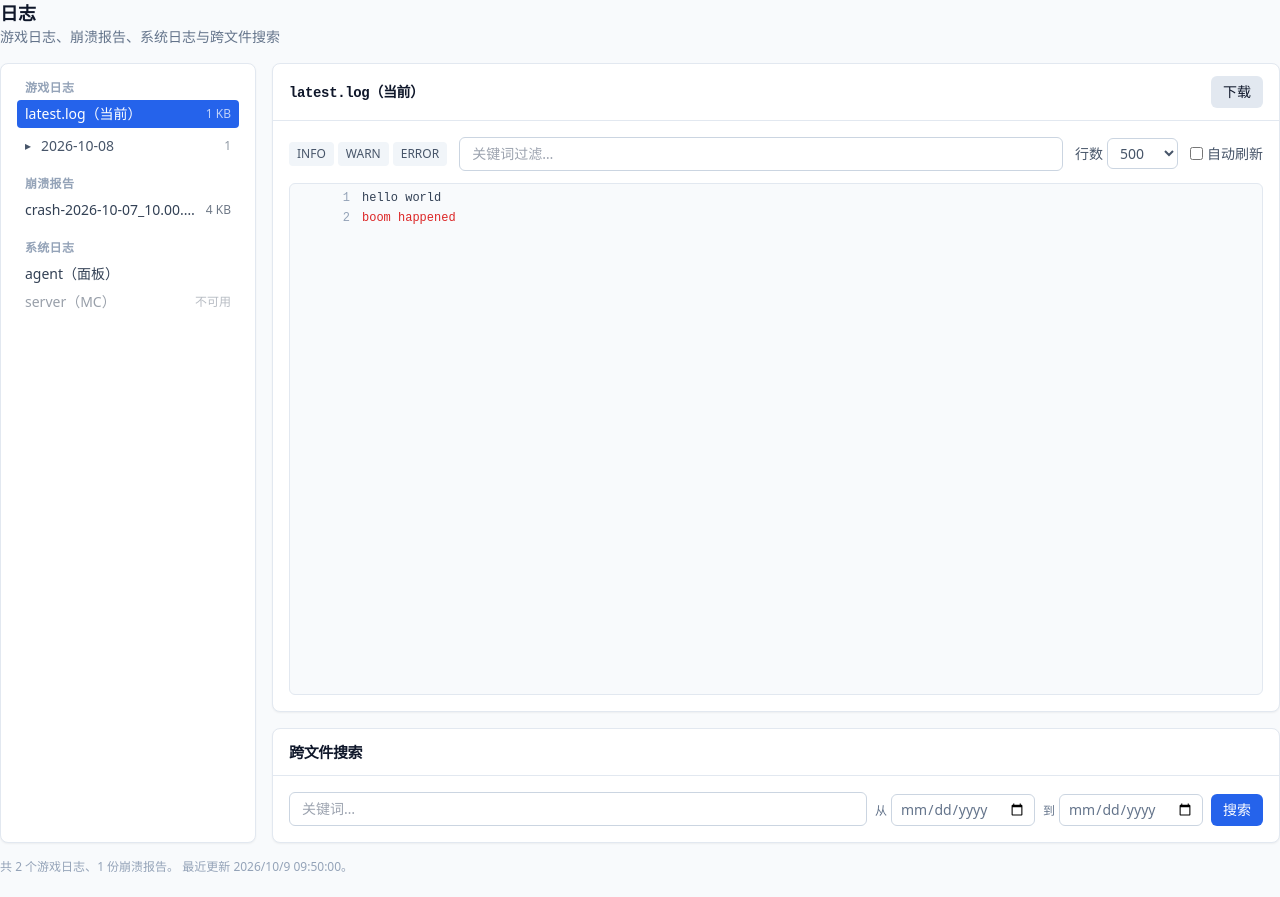
Scenario: LogsPage › cross-file search sends q and jumps to the clicked hit
The width and height of the screenshot is (1280, 897).
Expected: the text "hello world" is shown, [362,188,441,208]
Type "found" into the search field named "搜索关键词" at [578, 809], box [289,792,867,826]
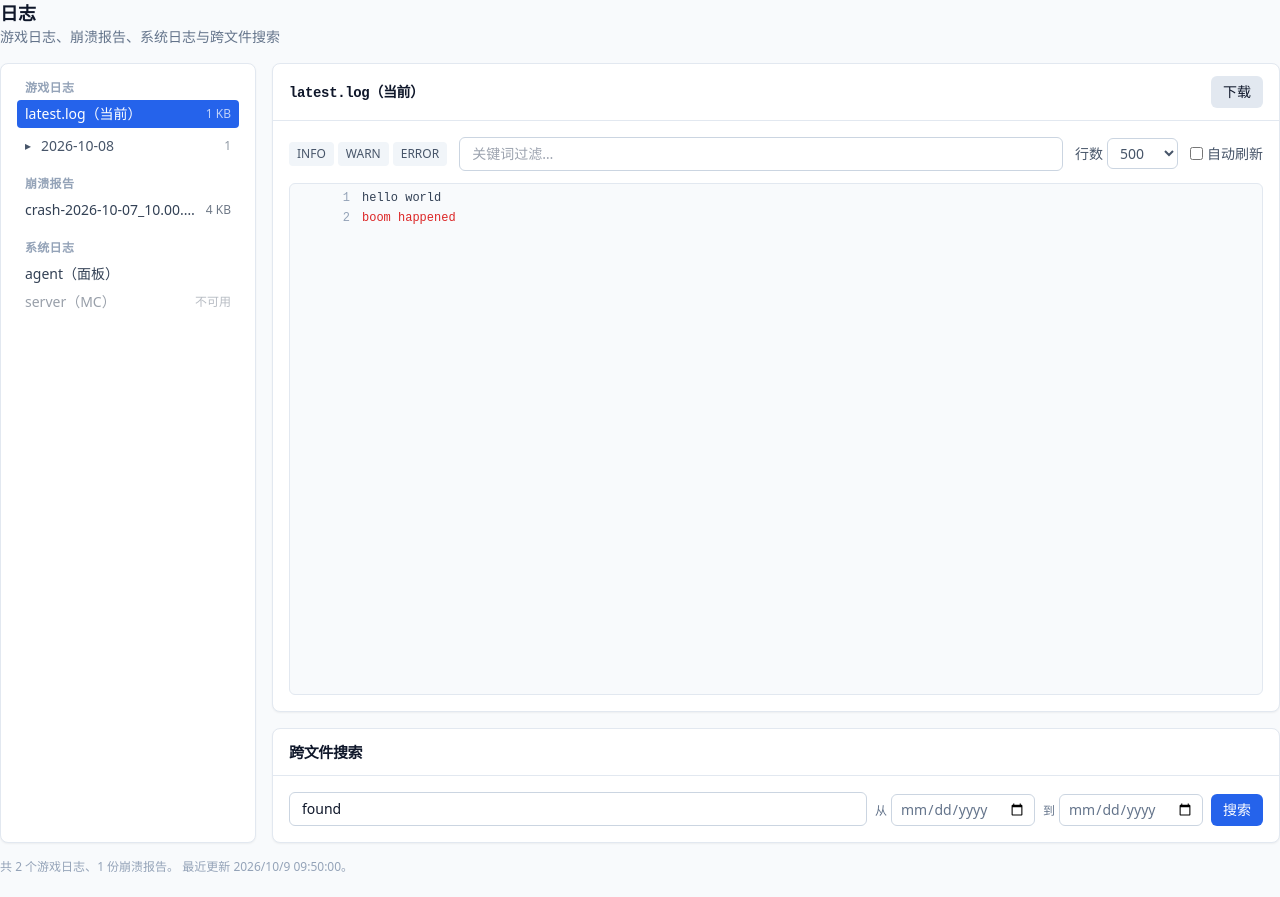
Click the button "搜索" at [1237, 810], box [1211,794,1263,826]
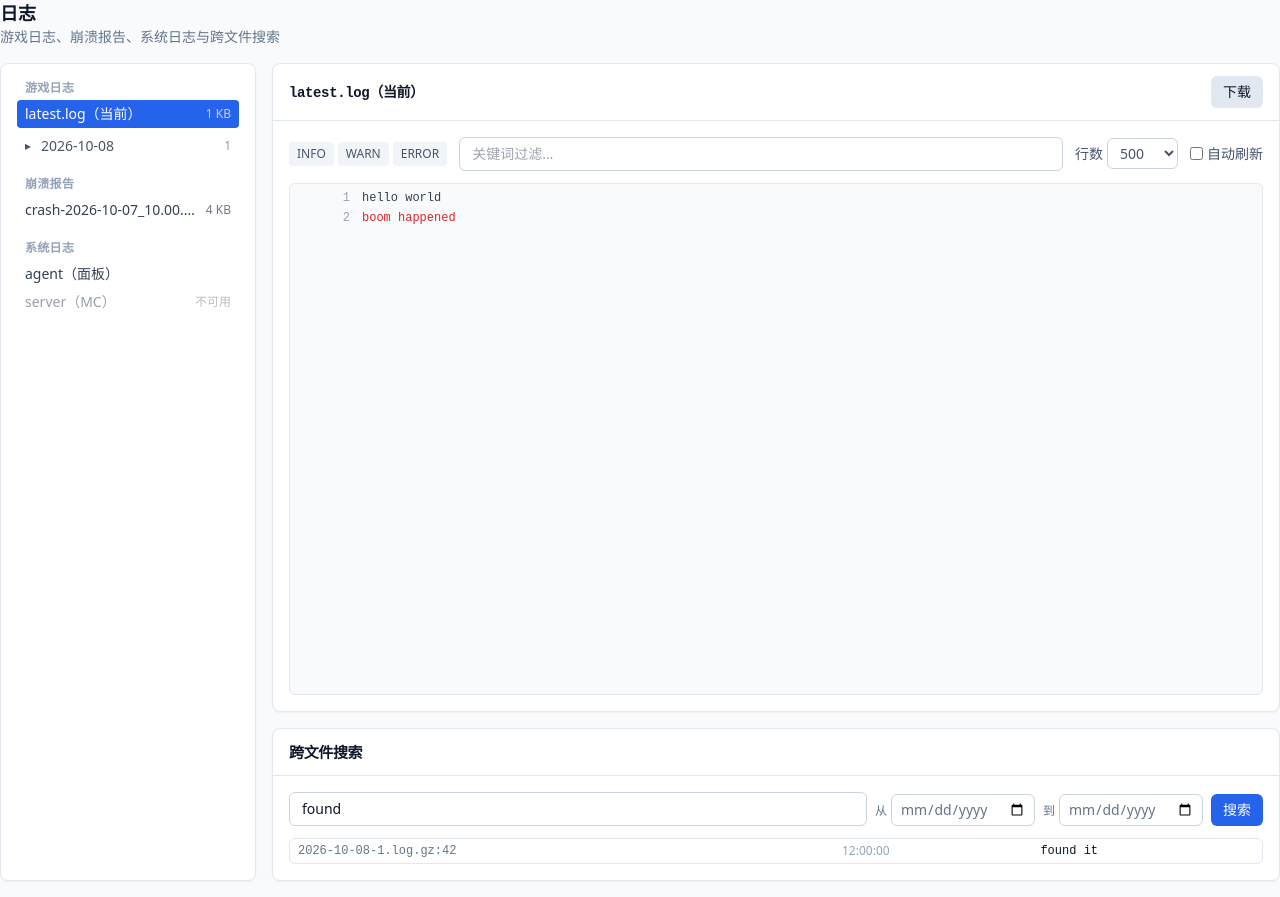
Click the text "found it" at [1069, 851], box [1032,839,1262,863]
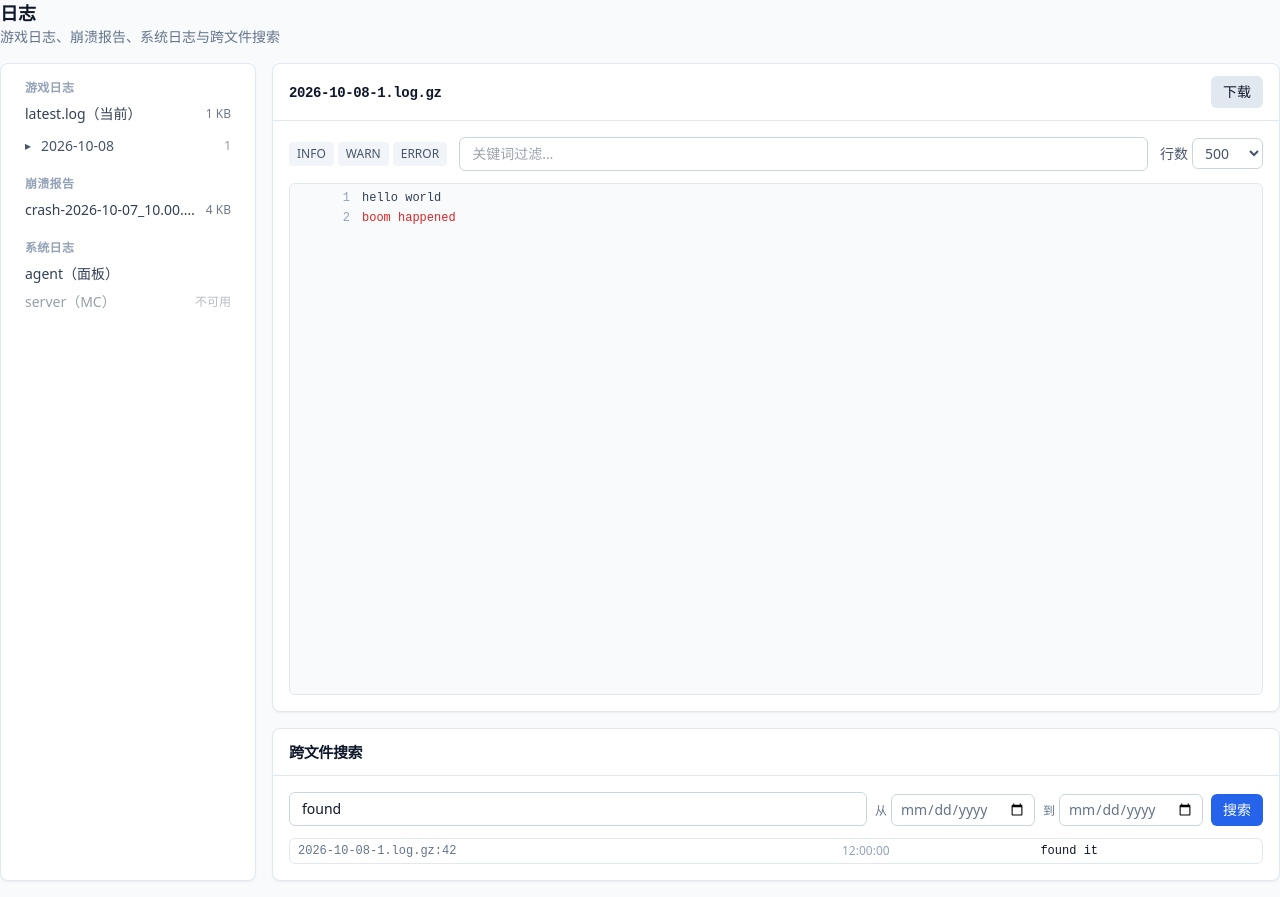
Expected: the text "2026-10-08-1.log.gz" is shown, [289,85,442,101]
